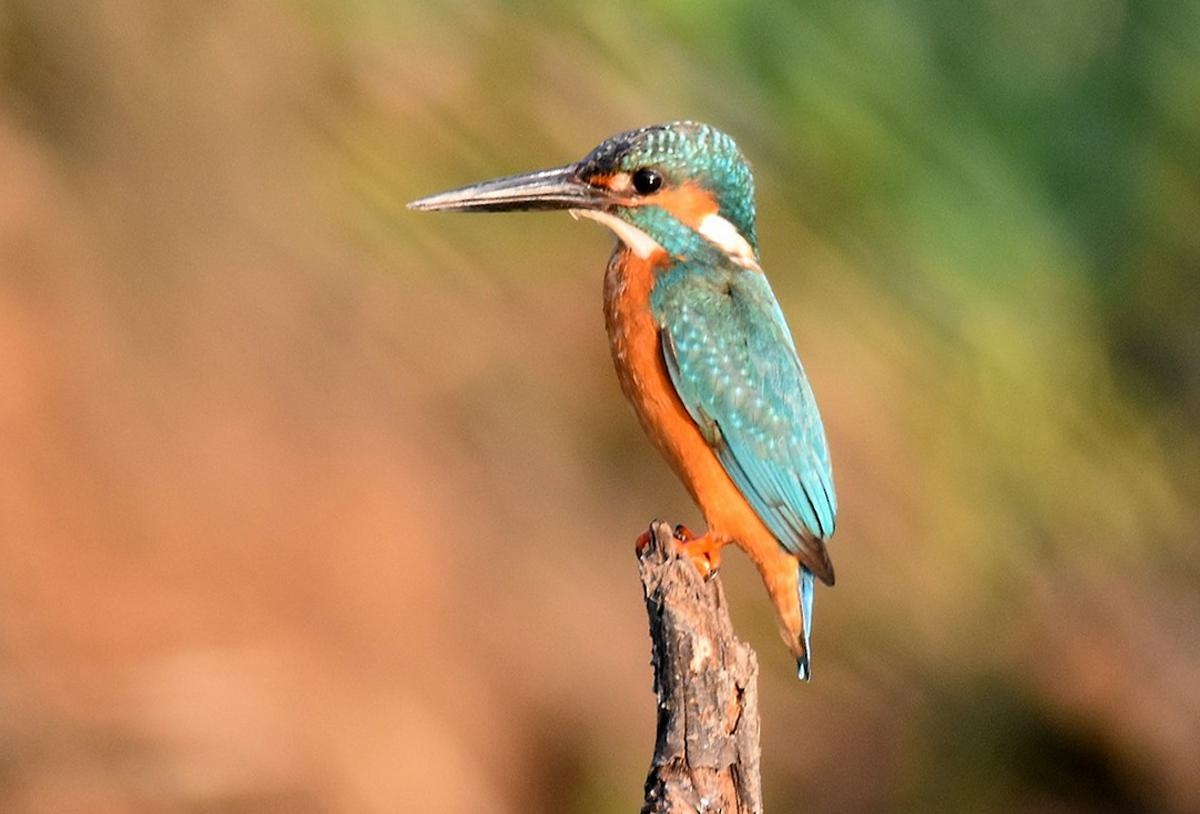kingfisher: (411, 106, 893, 675)
